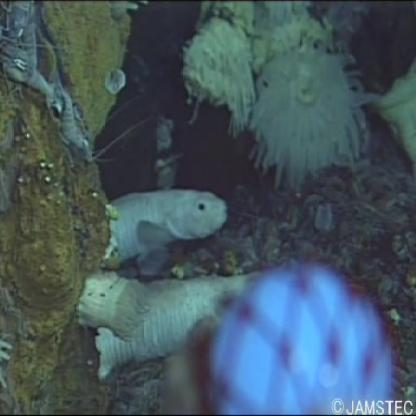Bio: (69, 185, 259, 377), (2, 1, 100, 168)
